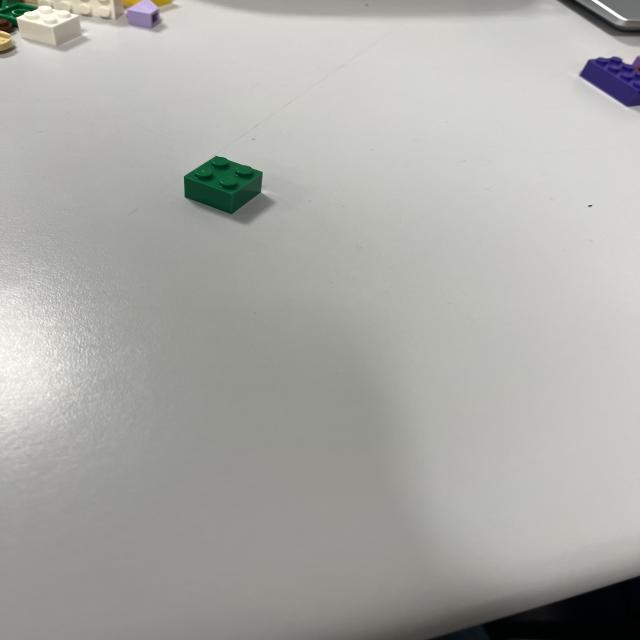C2x2x1: (186, 158, 262, 214)
